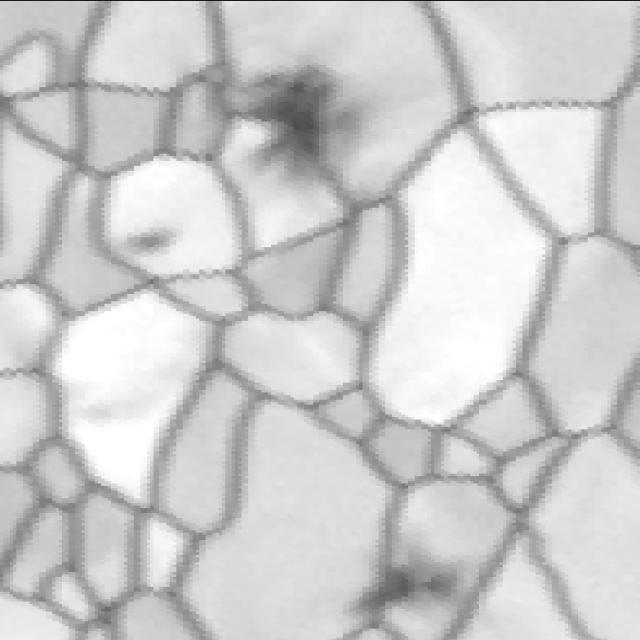good_void: (206, 47, 378, 197), (344, 534, 481, 635), (92, 359, 188, 430), (121, 225, 190, 263)
